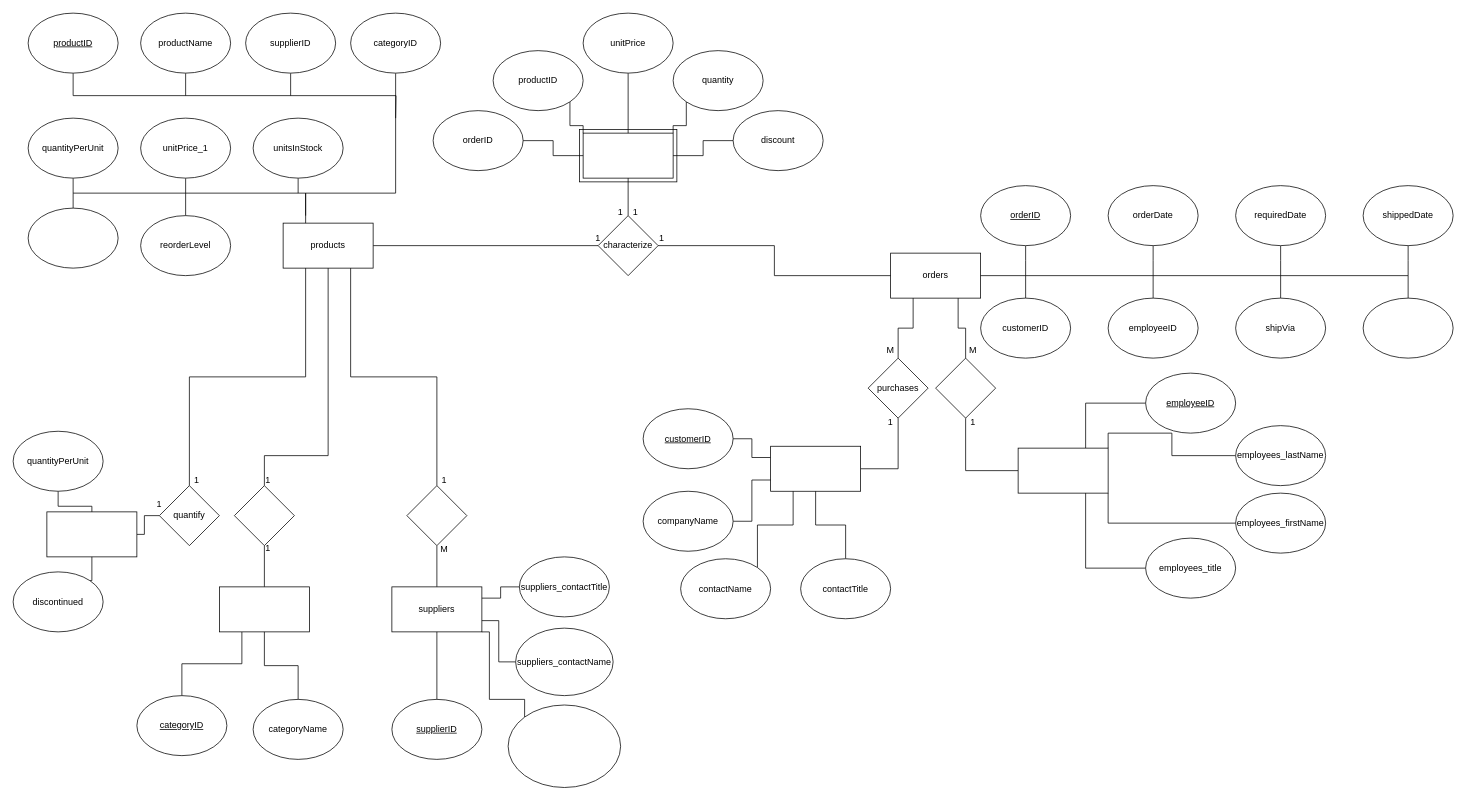
The diagram is 1466 pixels wide and 801 high, and some of its shapes have lost their labels. The centre of each missing label's shape, as x and y in pixels:
"categories" goes at [264,609].
"categorize" goes at [264,515].
"customers" goes at [815,468].
"employees" goes at [1062,470].
"freight" goes at [1407,327].
"orderProducts" goes at [627,155].
"quantities" goes at [91,534].
"suppliers_companyName" goes at [564,746].
"supply" goes at [436,515].
"unitsOnOrder" goes at [72,237].
"works_on" goes at [965,387].
